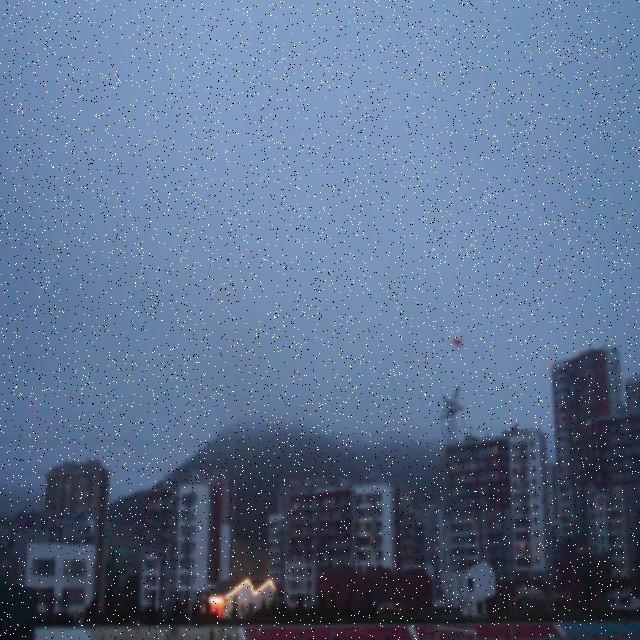UAV: (450, 336, 466, 350)
